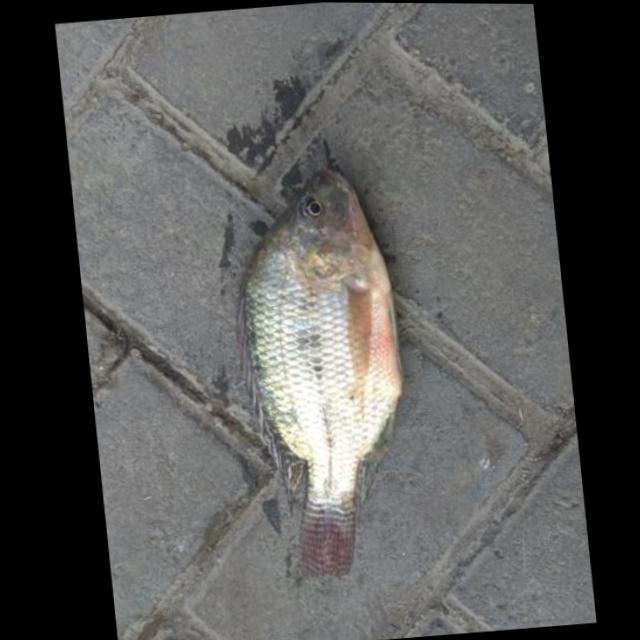Tilapia: (222, 159, 421, 579)
